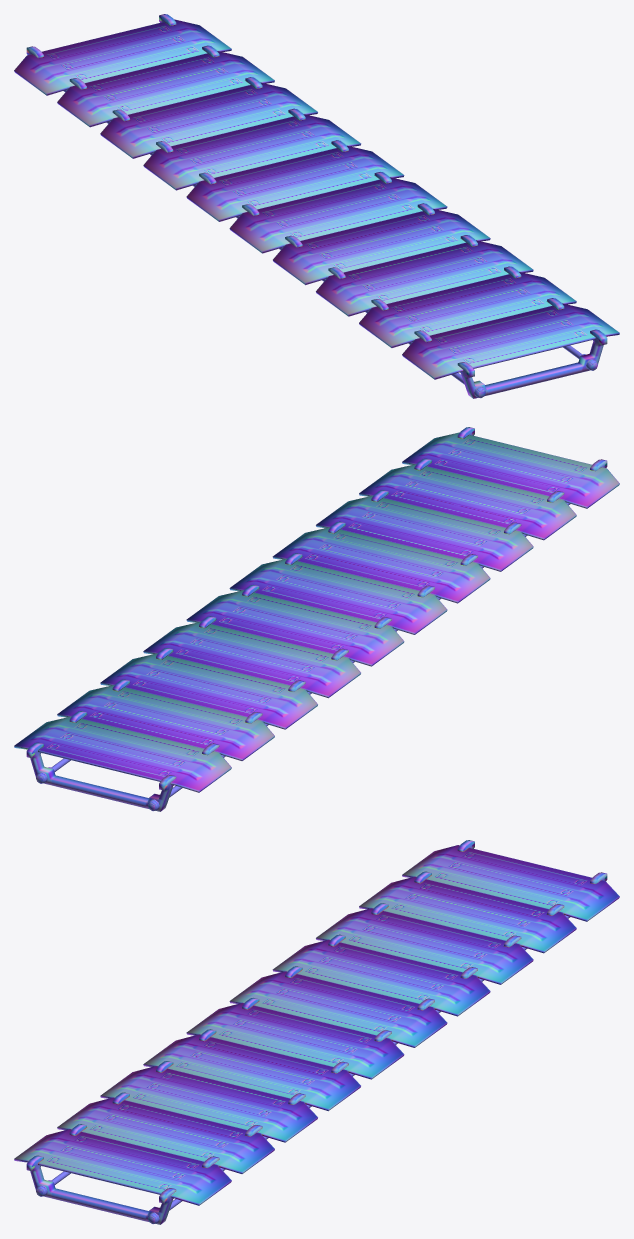
Rendered from catwalk.obj.
3 views of the same model, one above another, from view 1: azimuth 30°, elevation 25°; view 2: azimuth 150°, elevation 25°; view 3: azimuth 330°, elevation 25° (orthographic).
Visible parts, largest first — view 1: Cube.010_Cube.015; view 2: Cube.010_Cube.015; view 3: Cube.010_Cube.015.
Part boxes in pixels (bbox=[...]): Cube.010_Cube.015: bbox=[14, 14, 619, 398]; Cube.010_Cube.015: bbox=[14, 427, 619, 811]; Cube.010_Cube.015: bbox=[14, 840, 619, 1224].
Size of the model in its own units: 1.99 by 0.34 by 8.22.
